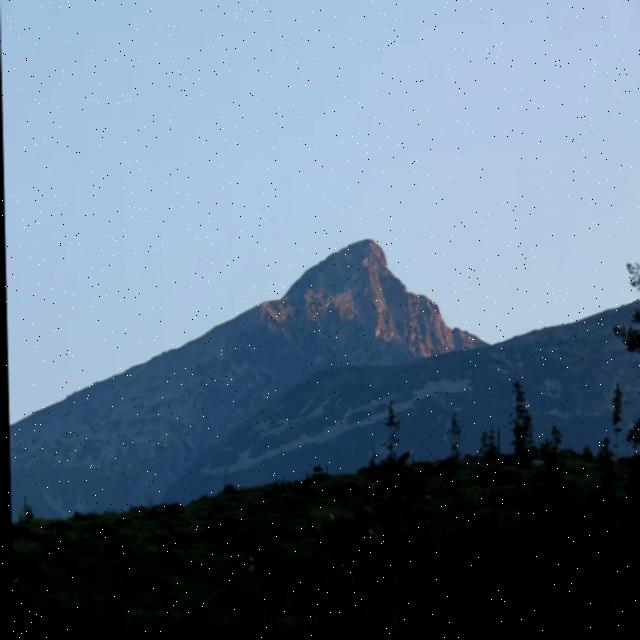Krivan: (269, 155, 474, 327)
